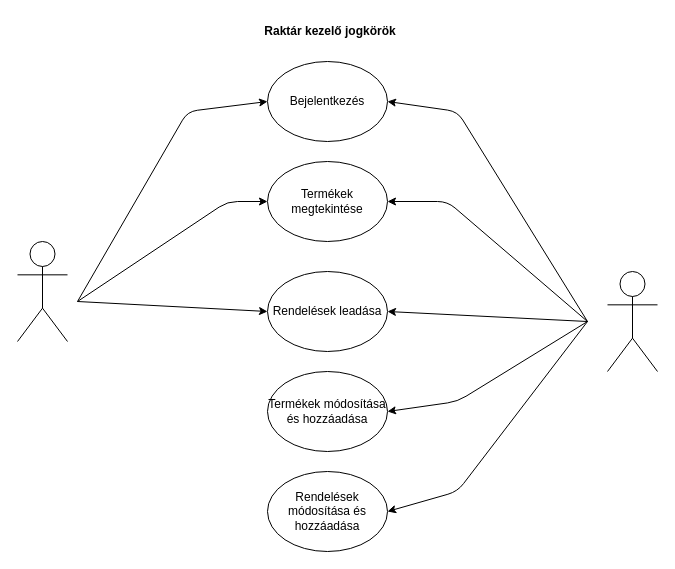
The diagram is 675 pixels wide and 569 high, and some of its shapes have lost their labels. Each missing label, with the centre of its shape:
"Dolgozó" belongs at pixel 42 291.
"Főnök" belongs at pixel 632 321.
